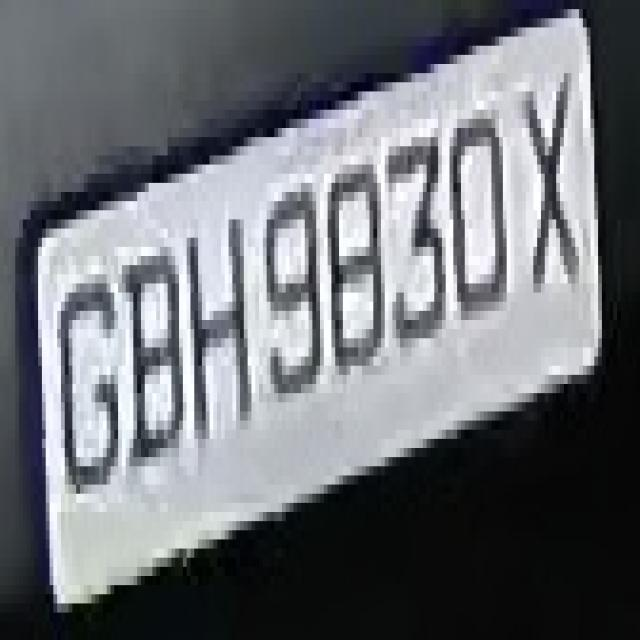0: (442, 110, 514, 338)
3: (381, 101, 446, 384)
8: (320, 156, 389, 412)
9: (252, 183, 328, 420)
B: (118, 220, 187, 484)
G: (42, 256, 129, 521)
H: (179, 192, 259, 457)
X: (518, 55, 594, 274)
